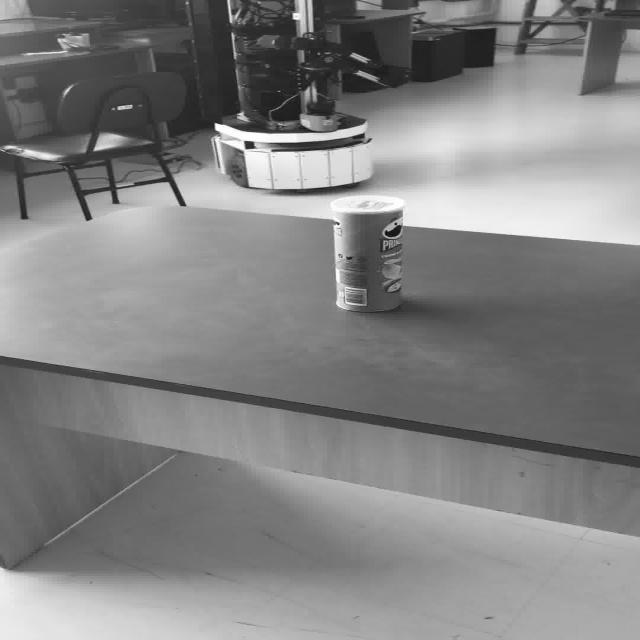pringles: (328, 194, 404, 312)
